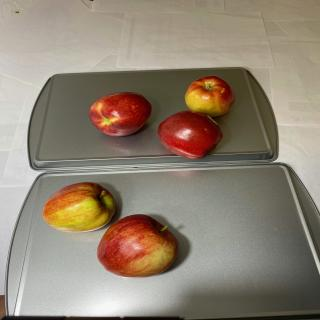Apple: (96, 214, 178, 278), (41, 182, 116, 232), (157, 110, 223, 159), (88, 92, 152, 136), (184, 76, 235, 118)
